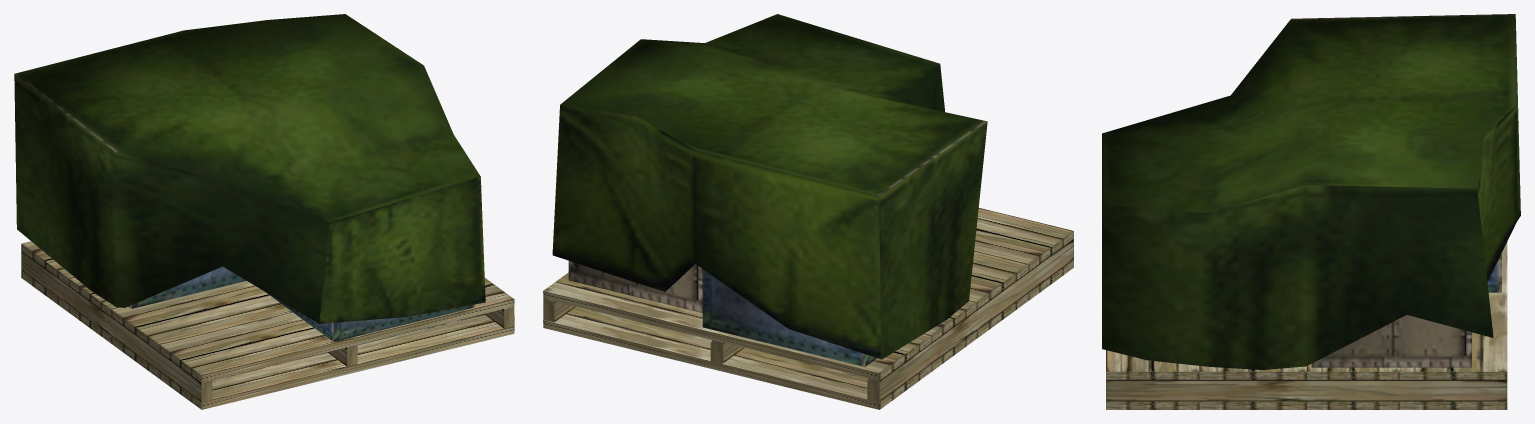
File: GoodsPalette_CratesAndTarp.glb
The picture shows the model from 3 angles, left to right: view 1: azimuth 30°, elevation 25°; view 2: azimuth 150°, elevation 25°; view 3: azimuth 270°, elevation 25°; orthographic projection. The views are drawn at different scales.
Parts seen in each view (by area): view 1: GOODSPALETTE_CRATESANDTARP; view 2: GOODSPALETTE_CRATESANDTARP; view 3: GOODSPALETTE_CRATESANDTARP.
Boxes of the visible parts, x1,y1,x2,y2 form: GOODSPALETTE_CRATESANDTARP: (14, 14, 514, 409); GOODSPALETTE_CRATESANDTARP: (543, 14, 1073, 409); GOODSPALETTE_CRATESANDTARP: (1102, 14, 1520, 409).
Bounding box in the file's own units: 2.02 × 1.27 × 2.08.
1 material, 1 textured.
